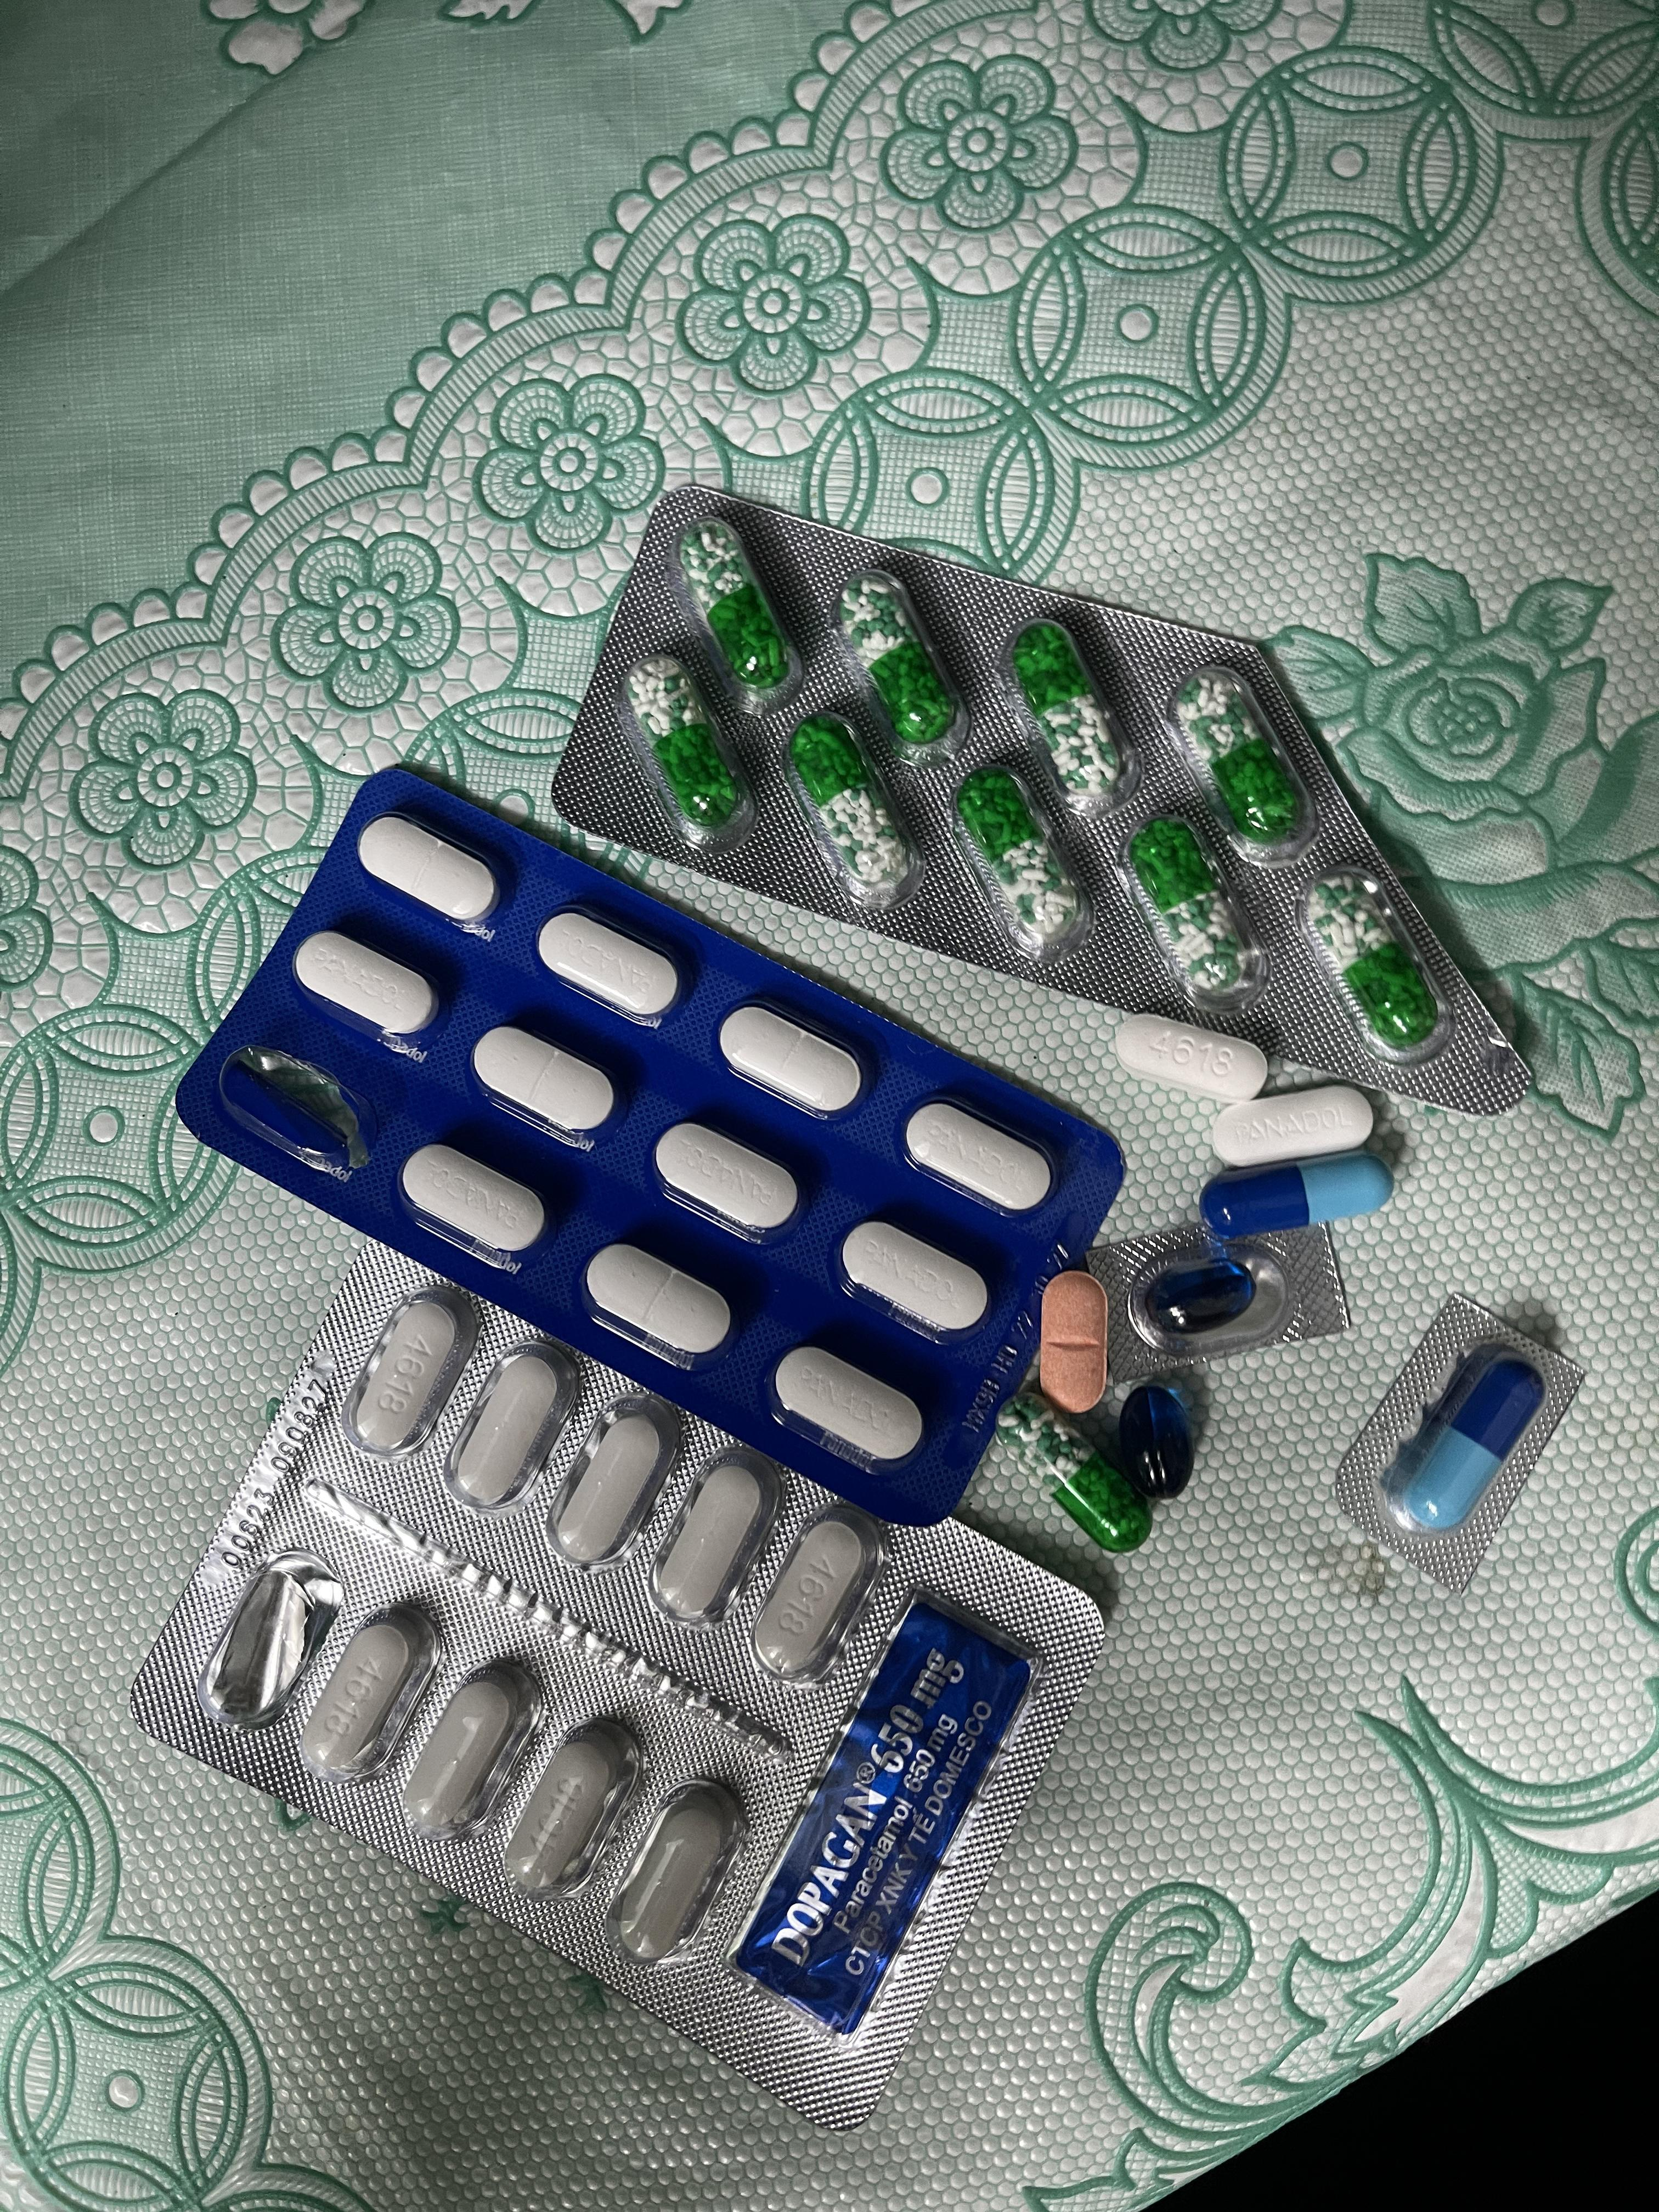Lincomyxin_500mg: (1119, 1379, 1192, 1498), (1147, 1259, 1256, 1336)
Loratadine_10mg: (1039, 1271, 1108, 1409)
Paracetamol_350mg: (904, 1099, 1061, 1216), (838, 1217, 988, 1339), (653, 1120, 805, 1240), (720, 1001, 871, 1120), (401, 1144, 545, 1264), (472, 1026, 617, 1146), (586, 1242, 730, 1362), (774, 1345, 920, 1461), (537, 907, 683, 1022), (296, 930, 439, 1040), (359, 813, 500, 921), (1206, 1083, 1377, 1170)
Paracetamol_500mg: (293, 1594, 443, 1785), (401, 1655, 545, 1850), (603, 1775, 746, 1966), (500, 1710, 641, 1900), (652, 1444, 789, 1629), (441, 1338, 579, 1514), (338, 1285, 474, 1461), (749, 1501, 884, 1679), (549, 1388, 681, 1564), (1114, 1012, 1260, 1099)
Paracetamol_650mg: (997, 1393, 1152, 1552), (958, 772, 1089, 954), (627, 653, 751, 840), (1131, 817, 1253, 996), (1178, 667, 1302, 841), (791, 721, 913, 895), (1314, 874, 1438, 1043), (681, 523, 795, 702), (1011, 629, 1122, 803), (847, 582, 950, 745)
pill: (1382, 1350, 1546, 1536), (1209, 1153, 1391, 1235)
